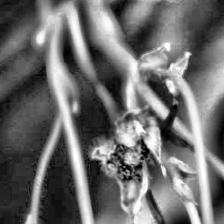Gray Mold: (88, 103, 166, 224)
